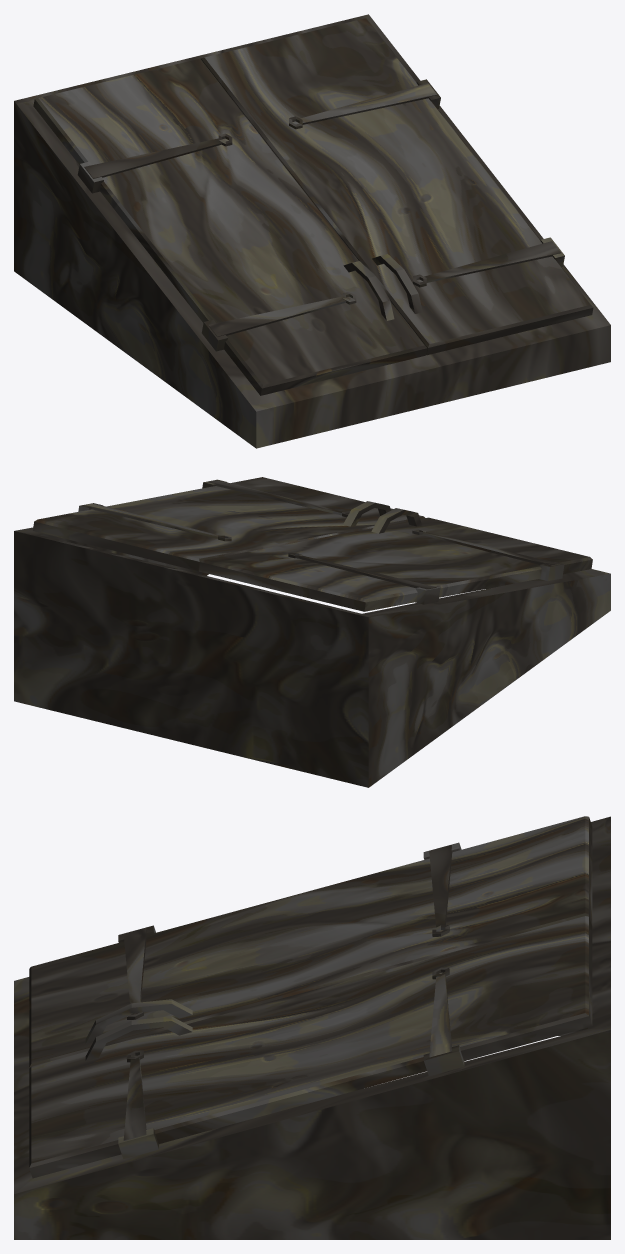
The model's file is CellarDoor.fbx.
The picture shows the model from 3 angles, top to bottom: view 1: azimuth 30°, elevation 25°; view 2: azimuth 150°, elevation 25°; view 3: azimuth 270°, elevation 25°; orthographic projection. The views are drawn at different scales.
Visible parts, largest first — view 1: LeftDoor, RightDoor, DoorBase; view 2: DoorBase, LeftDoor, RightDoor; view 3: DoorBase, RightDoor, LeftDoor.
Part boxes in pixels (<box>): LeftDoor: <box>33,58,427,395</box>; RightDoor: <box>201,18,593,355</box>; DoorBase: <box>14,14,610,448</box>; DoorBase: <box>14,527,610,787</box>; LeftDoor: <box>199,508,592,611</box>; RightDoor: <box>33,477,425,571</box>; DoorBase: <box>14,816,610,1239</box>; RightDoor: <box>29,916,592,1178</box>; LeftDoor: <box>29,816,592,1067</box>.
Size of the model in its own units: 2 by 0.9564 by 2.37.
1 material, 1 textured.
